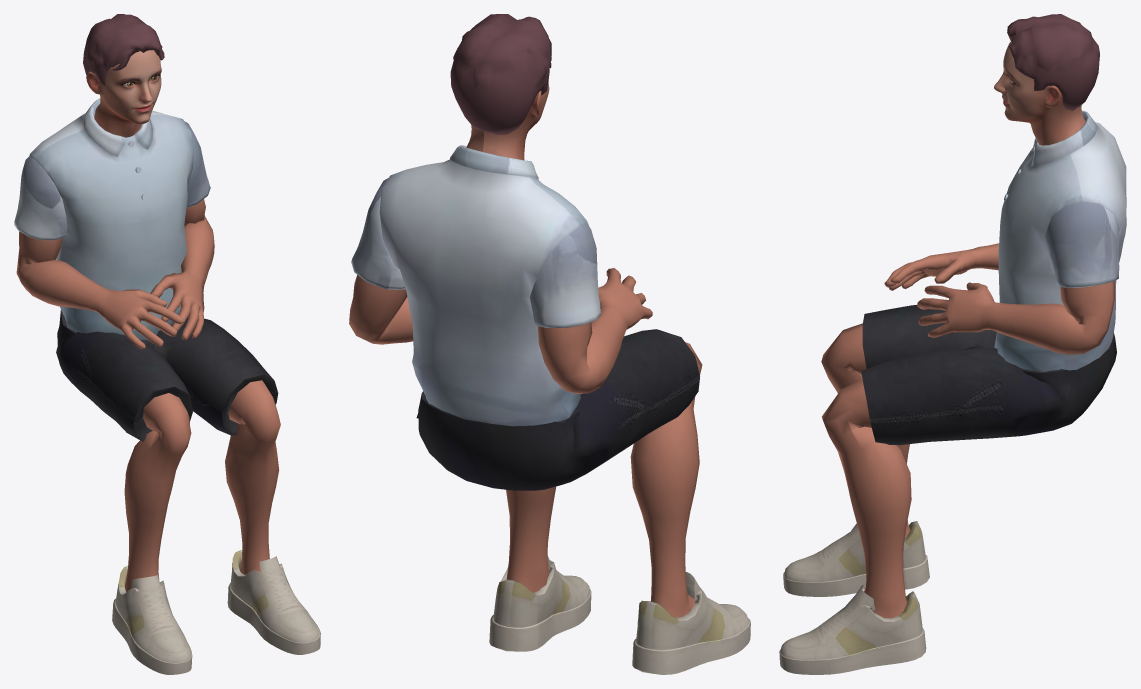
File: man2.fbx
3 views of the same model, side by side, from view 1: azimuth 30°, elevation 25°; view 2: azimuth 150°, elevation 25°; view 3: azimuth 270°, elevation 25° (orthographic). The views are drawn at different scales.
Visible parts, largest first — view 1: Wolf3D_Outfit_Top, Wolf3D_Body, Wolf3D_Outfit_Bottom, Wolf3D_Outfit_Footwear, Wolf3D_Head, Wolf3D_Hair; view 2: Wolf3D_Outfit_Top, Wolf3D_Body, Wolf3D_Outfit_Bottom, Wolf3D_Outfit_Footwear, Wolf3D_Hair, Wolf3D_Head; view 3: Wolf3D_Body, Wolf3D_Outfit_Bottom, Wolf3D_Outfit_Top, Wolf3D_Outfit_Footwear, Wolf3D_Hair, Wolf3D_Head.
Part boxes in pixels (x1,y1,x2,y2): Wolf3D_Outfit_Top: [14, 98, 210, 340]; Wolf3D_Body: [16, 199, 280, 591]; Wolf3D_Outfit_Bottom: [56, 310, 278, 441]; Wolf3D_Outfit_Footwear: [112, 550, 320, 674]; Wolf3D_Head: [86, 50, 161, 137]; Wolf3D_Hair: [83, 14, 164, 85]; Wolf3D_Outfit_Top: [351, 145, 601, 426]; Wolf3D_Body: [349, 268, 702, 617]; Wolf3D_Outfit_Bottom: [416, 329, 699, 490]; Wolf3D_Outfit_Footwear: [489, 556, 750, 674]; Wolf3D_Hair: [450, 14, 551, 134]; Wolf3D_Head: [466, 81, 549, 160]; Wolf3D_Body: [821, 243, 1115, 618]; Wolf3D_Outfit_Bottom: [861, 305, 1116, 445]; Wolf3D_Outfit_Top: [994, 110, 1126, 371]; Wolf3D_Outfit_Footwear: [779, 521, 929, 674]; Wolf3D_Hair: [1007, 14, 1099, 110]; Wolf3D_Head: [994, 42, 1085, 145].
Size of the model in its own units: 514 by 1440 by 742.
8 materials, 8 textured.
